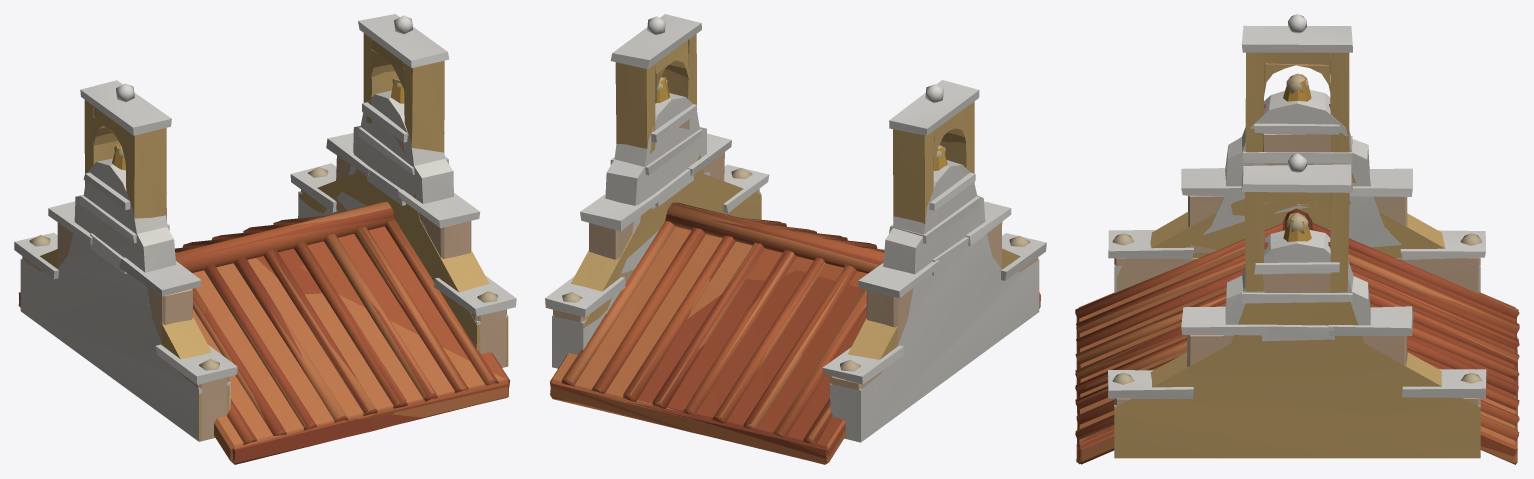
The model's file is roof.stepped_gable.glb.
3 views of the same model, side by side, from view 1: azimuth 30°, elevation 25°; view 2: azimuth 150°, elevation 25°; view 3: azimuth 270°, elevation 25° (orthographic). The views are drawn at different scales.
Parts seen in each view (by area): view 1: roof.stepped_gable.v1.mesh, roof.stepped_gable.v0.mesh, roof.stepped_gable.v2.mesh; view 2: roof.stepped_gable.v0.mesh, roof.stepped_gable.v1.mesh, roof.stepped_gable.v2.mesh; view 3: roof.stepped_gable.v1.mesh, roof.stepped_gable.v2.mesh, roof.stepped_gable.v0.mesh.
Boxes of the visible parts, box(x1,y1,x2,y2) form: roof.stepped_gable.v1.mesh: box(18, 14, 508, 461); roof.stepped_gable.v0.mesh: box(18, 76, 508, 464); roof.stepped_gable.v2.mesh: box(14, 102, 516, 463); roof.stepped_gable.v0.mesh: box(550, 77, 1039, 463); roof.stepped_gable.v1.mesh: box(550, 14, 1040, 464); roof.stepped_gable.v2.mesh: box(545, 92, 1046, 463); roof.stepped_gable.v1.mesh: box(1075, 14, 1519, 464); roof.stepped_gable.v2.mesh: box(1075, 104, 1519, 464); roof.stepped_gable.v0.mesh: box(1075, 74, 1519, 462).
Bounding box in the file's own units: 2.07 × 1.88 × 2.43.
